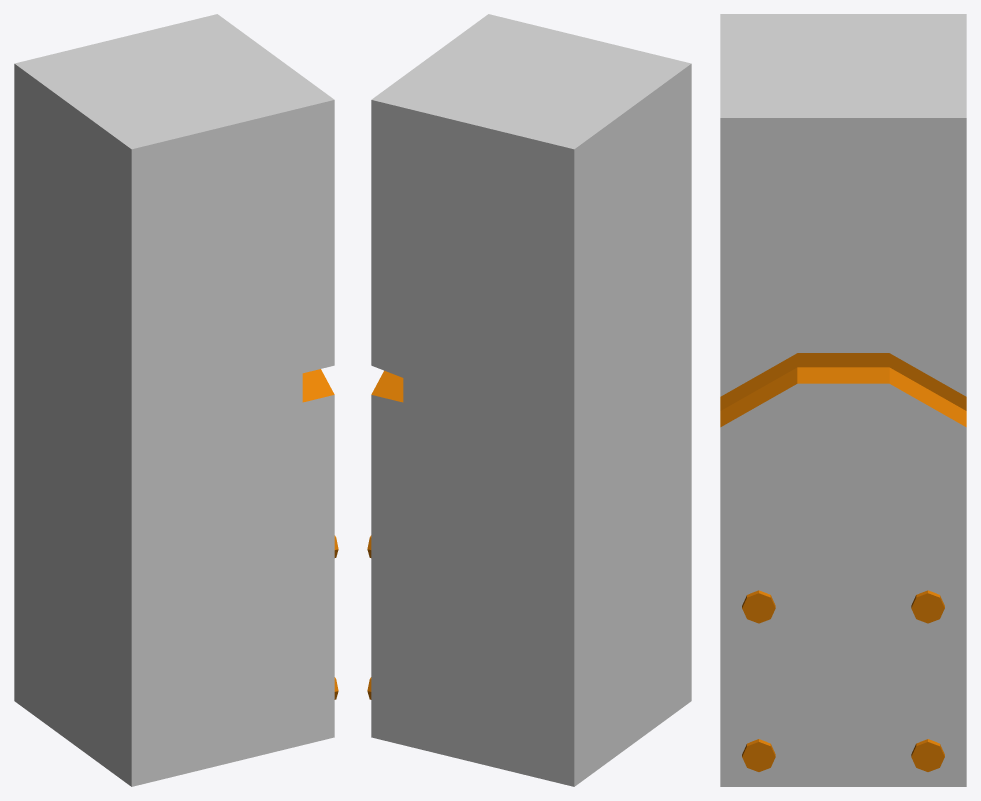
Rendered from Wall3.fbx.
3 views of the same model, side by side, from view 1: azimuth 30°, elevation 25°; view 2: azimuth 150°, elevation 25°; view 3: azimuth 270°, elevation 25° (orthographic). The views are drawn at different scales.
Visible parts, largest first — view 1: Cube.002; view 2: Cube.002; view 3: Cube.002.
Boxes of the visible parts, x1=… form: Cube.002: x1=14, y1=14, x2=338, y2=786; Cube.002: x1=367, y1=14, x2=691, y2=786; Cube.002: x1=720, y1=14, x2=966, y2=786.
Size of the model in its own units: 214 by 600 by 200.
